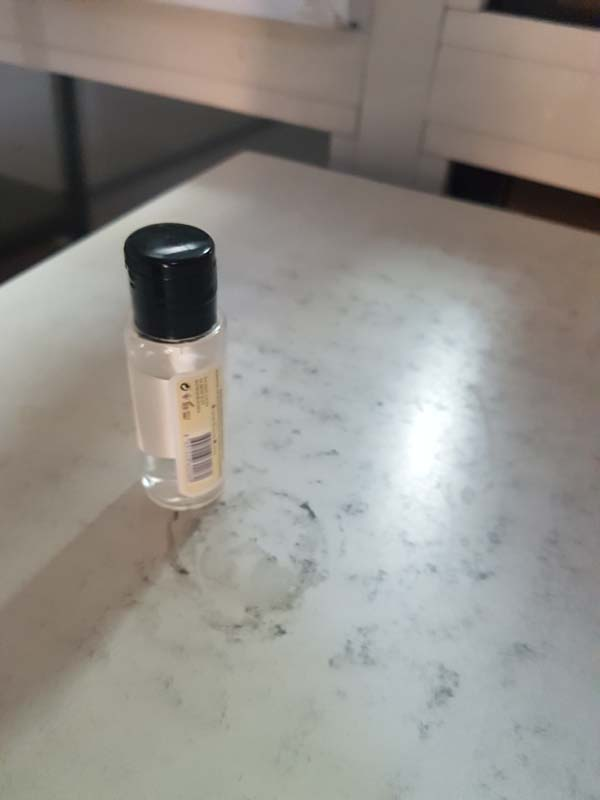redbulkolonya: (105, 217, 233, 516)
